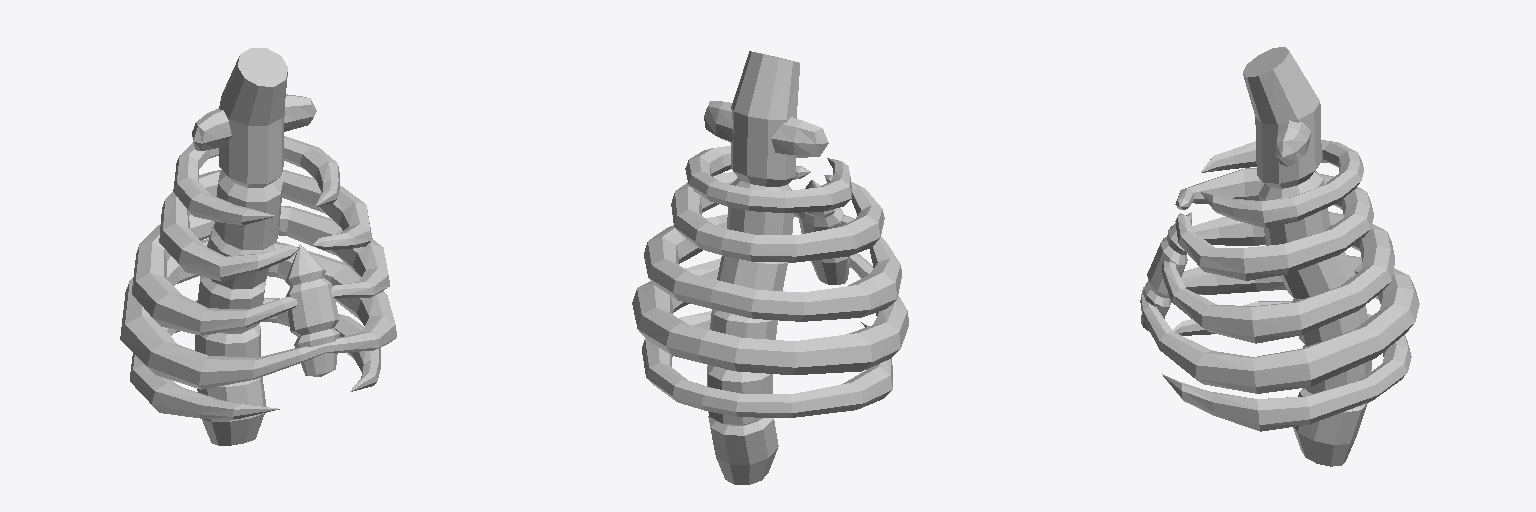
The model's file is body_broken.obj.
The picture shows the model from 3 angles: view 1: azimuth 30°, elevation 25°; view 2: azimuth 150°, elevation 25°; view 3: azimuth 270°, elevation 25°; orthographic projection.
Parts seen in each view (by area): view 1: body_broken_Cube.7756; view 2: body_broken_Cube.7756; view 3: body_broken_Cube.7756.
Part boxes in pixels (x1,y1,x2,y2): body_broken_Cube.7756: (120, 48, 396, 445); body_broken_Cube.7756: (632, 51, 908, 484); body_broken_Cube.7756: (1140, 47, 1419, 466).
Bounding box in the file's own units: 0.6321 × 1.02 × 0.6323.